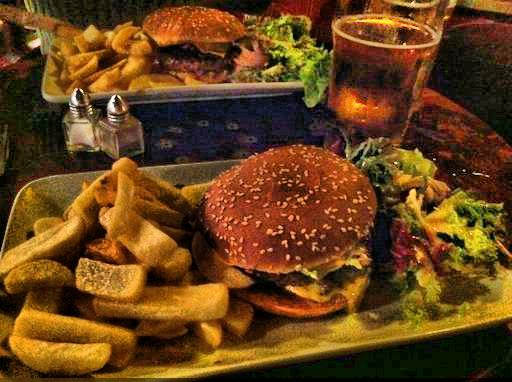burger: (207, 148, 387, 316)
